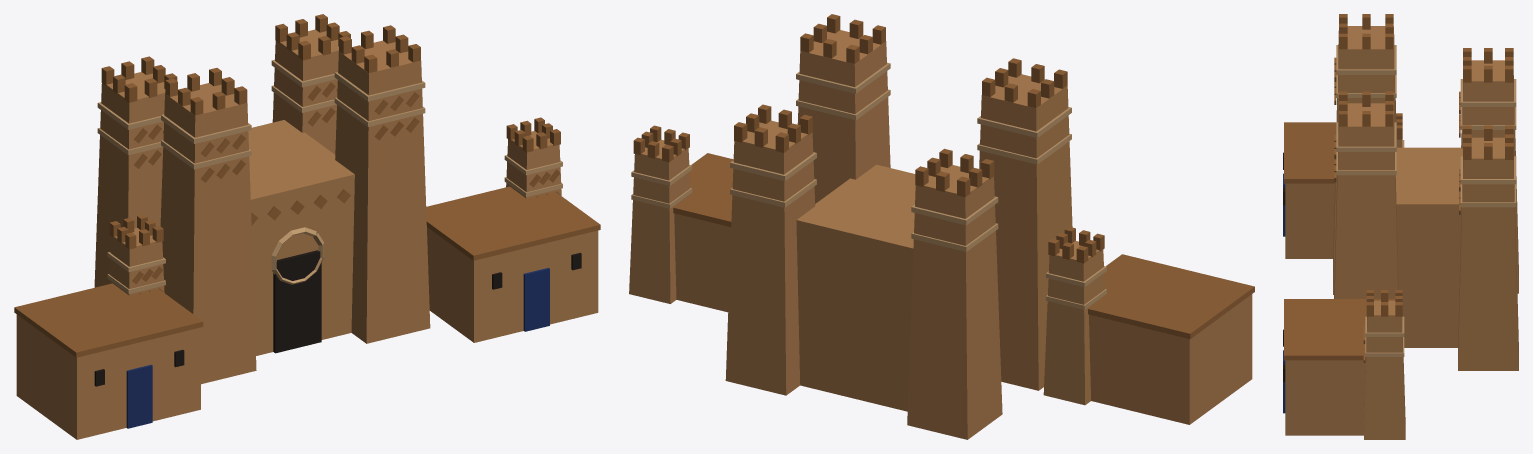
The model's file is fennec_court_broken.glb.
3 views of the same model, side by side, from view 1: azimuth 30°, elevation 25°; view 2: azimuth 150°, elevation 25°; view 3: azimuth 270°, elevation 25° (orthographic). The views are drawn at different scales.
Parts seen in each view (by area): view 1: fennec_court_piece5, fennec_court_piece3, fennec_court_piece10, fennec_court_piece2, fennec_court_piece4, fennec_court_piece9, fennec_court_piece1, fennec_court_piece7, fennec_court_piece6, fennec_court_piece0, fennec_court_piece8; view 2: fennec_court_piece1, fennec_court_piece5, fennec_court_piece7, fennec_court_piece4, fennec_court_piece2, fennec_court_piece6, fennec_court_piece10, fennec_court_piece0, fennec_court_piece11, fennec_court_piece3, fennec_court_piece13, fennec_court_piece8; view 3: fennec_court_piece1, fennec_court_piece6, fennec_court_piece4, fennec_court_piece3, fennec_court_piece9, fennec_court_piece5, fennec_court_piece10, fennec_court_piece2, fennec_court_piece0, fennec_court_piece7.
Boxes of the visible parts, bbox=[...] form: fennec_court_piece5: bbox=[14, 161, 250, 439]; fennec_court_piece3: bbox=[350, 199, 600, 342]; fennec_court_piece10: bbox=[262, 25, 425, 215]; fennec_court_piece2: bbox=[107, 192, 308, 412]; fennec_court_piece4: bbox=[121, 25, 328, 199]; fennec_court_piece9: bbox=[309, 131, 427, 344]; fennec_court_piece1: bbox=[255, 35, 359, 355]; fennec_court_piece7: bbox=[94, 66, 176, 287]; fennec_court_piece6: bbox=[456, 117, 589, 216]; fennec_court_piece0: bbox=[248, 14, 350, 141]; fennec_court_piece8: bbox=[264, 197, 379, 326]; fennec_court_piece1: bbox=[726, 88, 884, 405]; fennec_court_piece5: bbox=[1041, 133, 1254, 424]; fennec_court_piece7: bbox=[898, 162, 1055, 421]; fennec_court_piece4: bbox=[783, 58, 1071, 297]; fennec_court_piece2: bbox=[996, 226, 1156, 416]; fennec_court_piece6: bbox=[629, 125, 730, 381]; fennec_court_piece10: bbox=[796, 14, 915, 196]; fennec_court_piece0: bbox=[730, 104, 933, 365]; fennec_court_piece11: bbox=[879, 302, 986, 436]; fennec_court_piece3: bbox=[697, 153, 733, 312]; fennec_court_piece13: bbox=[901, 327, 980, 439]; fennec_court_piece8: bbox=[979, 350, 1013, 425]; fennec_court_piece1: bbox=[1386, 147, 1518, 365]; fennec_court_piece6: bbox=[1303, 290, 1518, 439]; fennec_court_piece4: bbox=[1334, 14, 1516, 192]; fennec_court_piece3: bbox=[1283, 276, 1492, 435]; fennec_court_piece9: bbox=[1334, 164, 1424, 325]; fennec_court_piece5: bbox=[1283, 82, 1404, 242]; fennec_court_piece10: bbox=[1334, 91, 1425, 220]; fennec_court_piece2: bbox=[1285, 130, 1404, 294]; fennec_court_piece0: bbox=[1460, 126, 1517, 227]; fennec_court_piece7: bbox=[1395, 48, 1518, 242].
Bounding box in the file's own units: 6.44 × 3.23 × 2.71.
